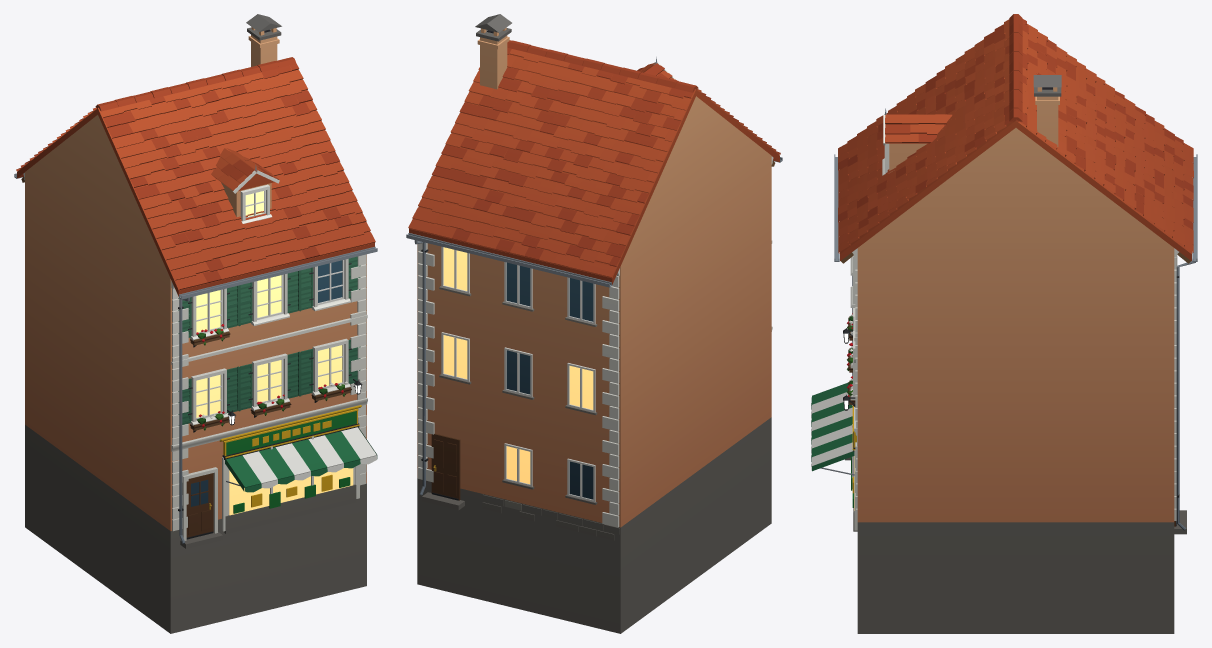
The model's file is TownHouse_H.fbx.
The picture shows the model from 3 angles, left to right: view 1: azimuth 30°, elevation 25°; view 2: azimuth 150°, elevation 25°; view 3: azimuth 270°, elevation 25°; orthographic projection. The views are drawn at different scales.
Visible parts, largest first — view 1: TownHouse_H_LOD0; view 2: TownHouse_H_LOD0; view 3: TownHouse_H_LOD0.
Boxes of the visible parts, <box> form: TownHouse_H_LOD0: <box>14,14,377,633</box>; TownHouse_H_LOD0: <box>406,14,782,633</box>; TownHouse_H_LOD0: <box>811,14,1197,633</box>.
Size of what is drawn, in the model's own units: 7 by 17.28 by 10.97.
1 material, 1 textured.
